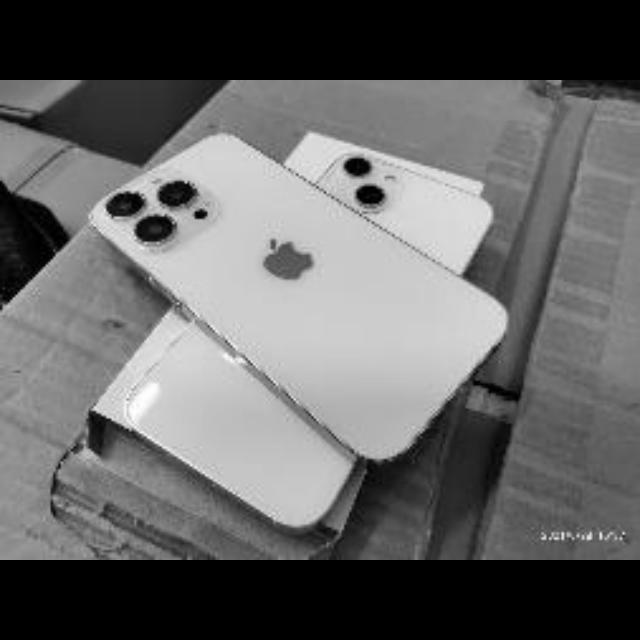fake: (88, 128, 508, 462)
